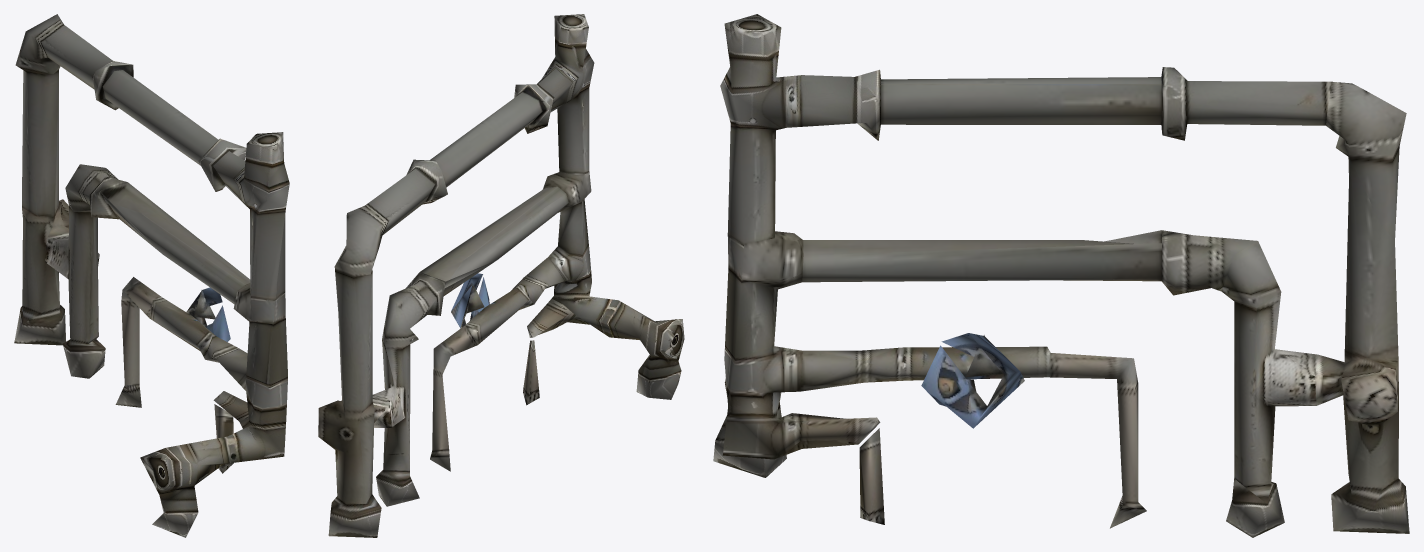
Rendered from tripo_convert_76368db8-151e-4367-80ae-bc1238842344.fbx.
3 views of the same model, side by side, from view 1: azimuth 30°, elevation 25°; view 2: azimuth 150°, elevation 25°; view 3: azimuth 270°, elevation 25° (orthographic). The views are drawn at different scales.
Parts seen in each view (by area): view 1: tripo_node_76368db8; view 2: tripo_node_76368db8; view 3: tripo_node_76368db8.
Part boxes in pixels (box(x1,y1,x2,y2)): tripo_node_76368db8: box(14, 14, 289, 537); tripo_node_76368db8: box(318, 14, 684, 537); tripo_node_76368db8: box(713, 14, 1409, 537).
Size of the model in its own units: 0.3311 by 0.8026 by 1.01.
1 material, 1 textured.
